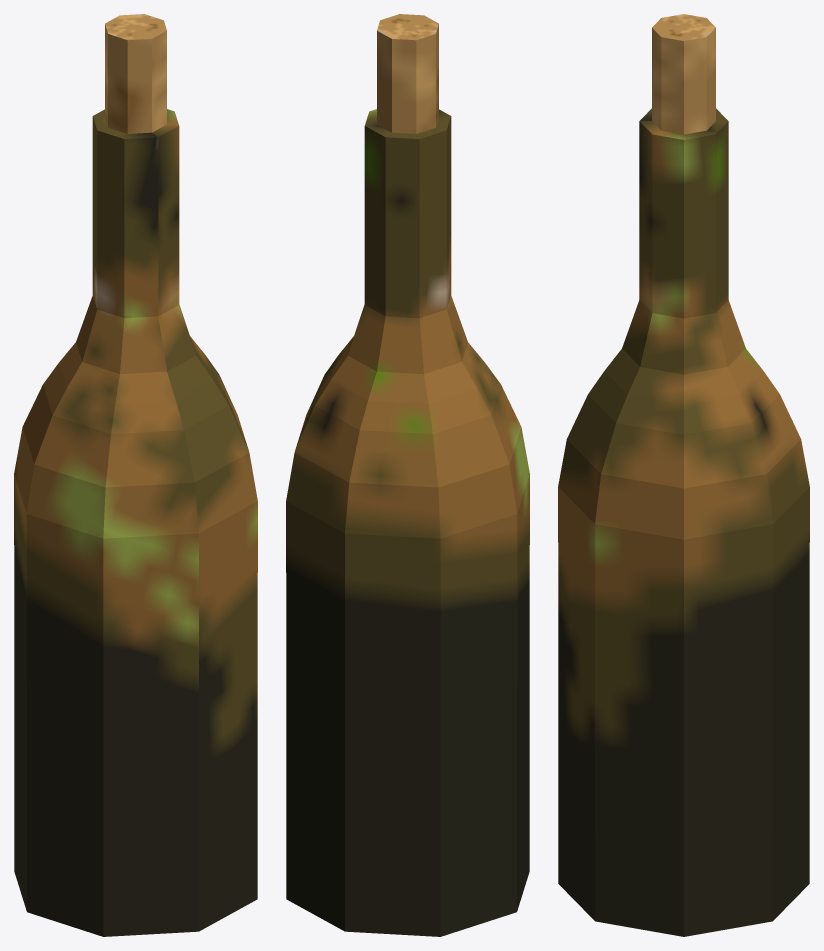
File: SM_Dungeon_Food_Wine.fbx
3 renders of one model, left to right at view 1: azimuth 30°, elevation 25°; view 2: azimuth 150°, elevation 25°; view 3: azimuth 270°, elevation 25°, orthographic.
Parts seen in each view (by area): view 1: Cylinder.004; view 2: Cylinder.004; view 3: Cylinder.004.
Part boxes in pixels (x1,y1,x2,y2): Cylinder.004: (14,14,257,936); Cylinder.004: (286,14,529,936); Cylinder.004: (558,14,809,936).
Size of the model in its own units: 20.45 by 76.76 by 20.45.
